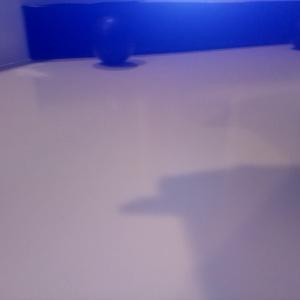dead_ball: (90, 14, 135, 64), (289, 18, 300, 50)
